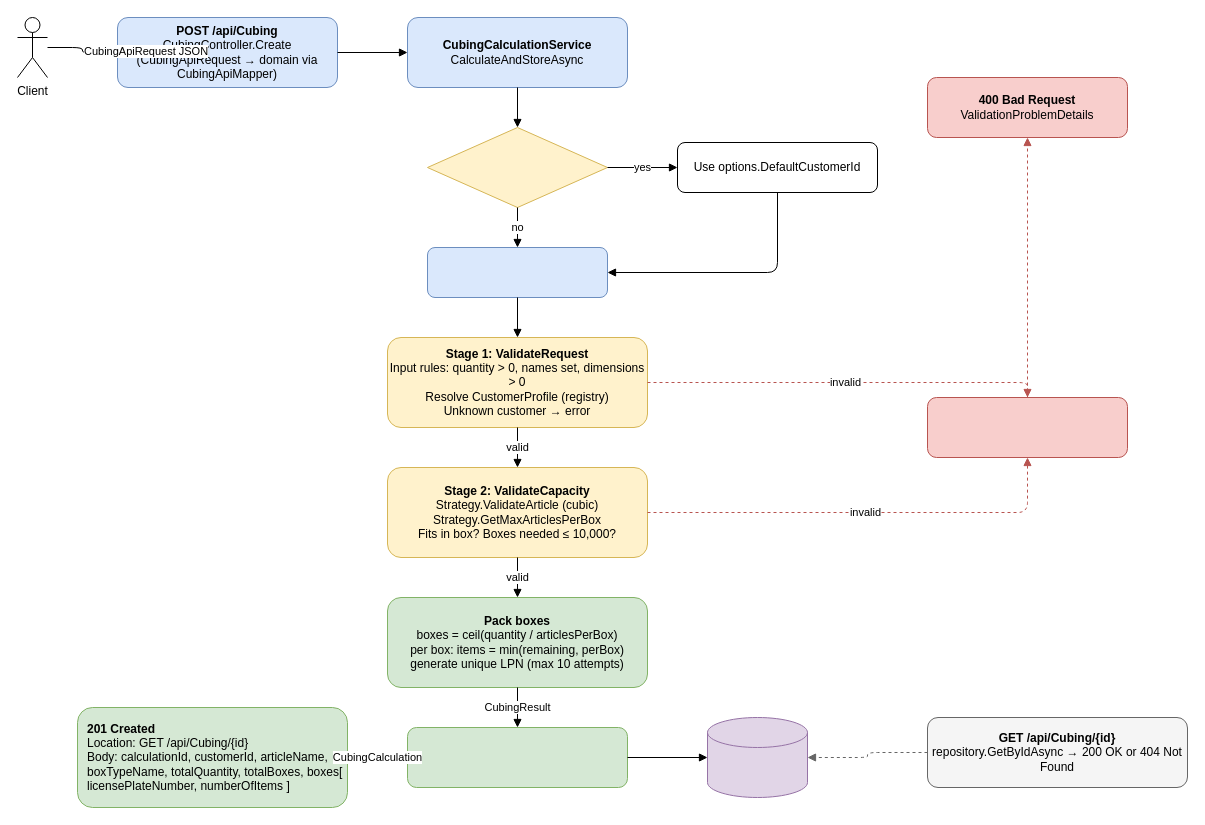
Some shapes in this 1205 by 825 pixel diagram are drawn without their labels. Here are the shapes that lost their labels. From the top down, the box of each, then its label:
(426, 126, 608, 208): CustomerId empty?
(426, 246, 608, 298): CubingService.Cube
(926, 396, 1128, 458): CubingValidationException caught in controller
(406, 726, 628, 788): CubingCalculation.From(result) repository.AddAsync
(706, 716, 808, 798): Database (CubingDbContext)
